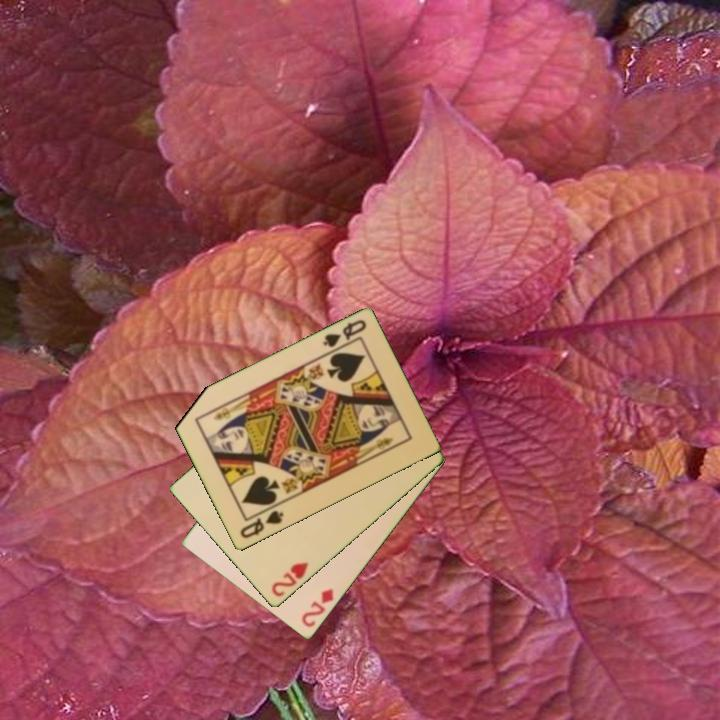2d: (298, 586, 337, 630)
2h: (268, 559, 311, 600)
Qs: (319, 316, 369, 356), (236, 507, 287, 542)
